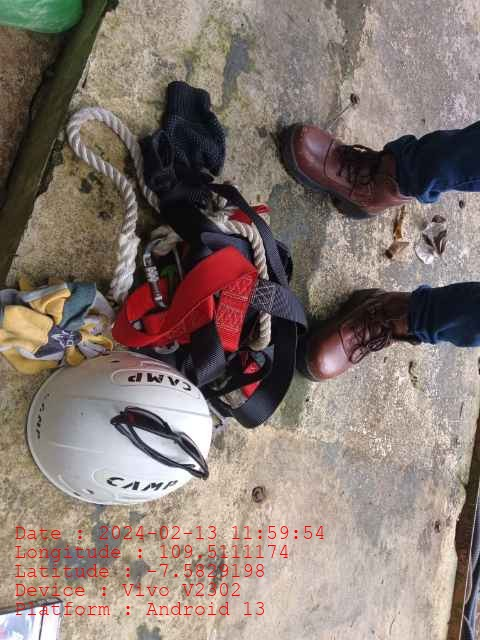HELM: (27, 350, 212, 507)
